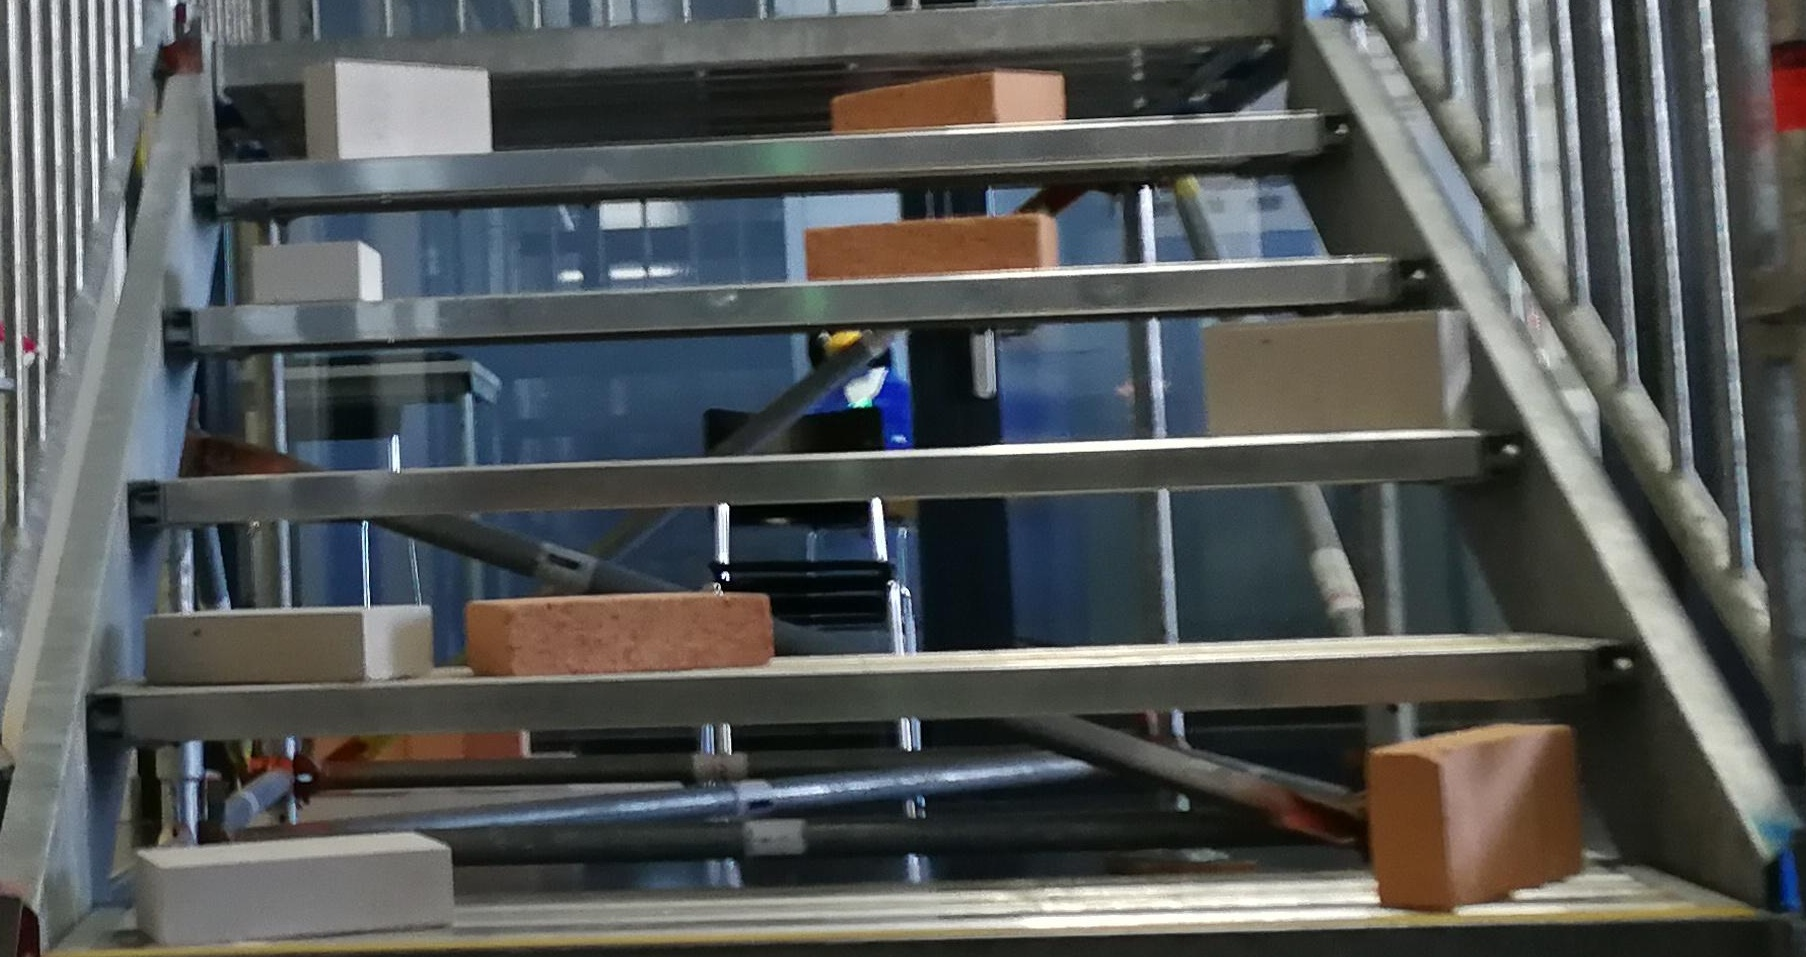brick: (1371, 723, 1580, 908), (133, 835, 449, 945), (1204, 313, 1470, 429), (465, 590, 770, 677), (147, 603, 428, 682), (302, 59, 490, 155), (801, 216, 1057, 272), (833, 70, 1059, 124), (254, 244, 383, 301)
edge: (90, 646, 1654, 731), (130, 435, 1522, 517), (166, 259, 1435, 348), (199, 112, 1344, 194), (41, 910, 1777, 957)
